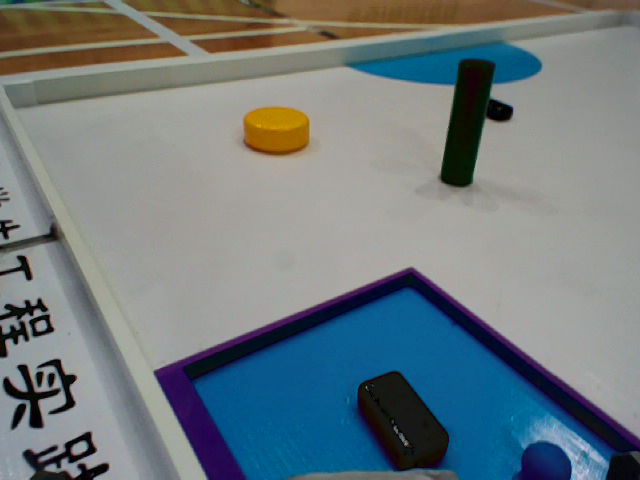black: (358, 374, 460, 465)
blue: (517, 438, 588, 480)
kuang: (149, 265, 640, 480)
yellow: (239, 105, 315, 152)
zhuzi: (434, 58, 493, 186)
